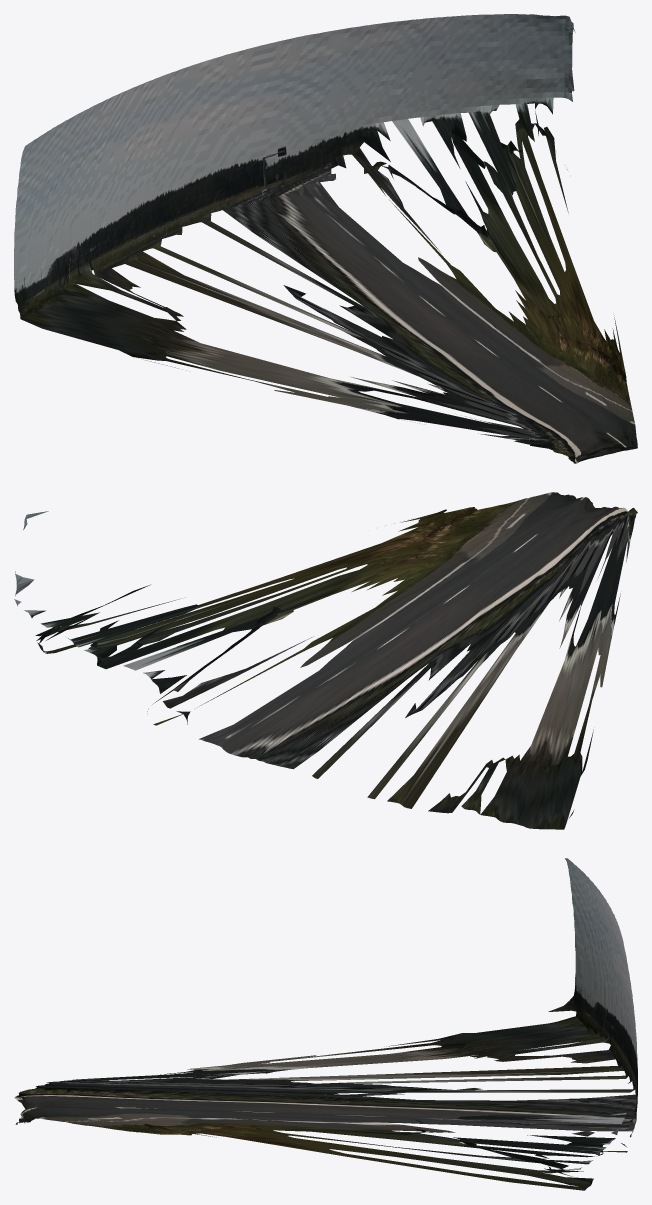
3 views of the same model, one above another, from view 1: azimuth 30°, elevation 25°; view 2: azimuth 150°, elevation 25°; view 3: azimuth 270°, elevation 25° (orthographic). The views are drawn at different scales.
Parts seen in each view (by area): view 1: defaultobject; view 2: defaultobject; view 3: defaultobject.
Part boxes in pixels (x1,y1,x2,y2): defaultobject: (14, 14, 637, 463); defaultobject: (14, 492, 637, 829); defaultobject: (14, 858, 637, 1190).
Size of the model in its own units: 41.03 by 13.43 by 44.64.
1 material, 1 textured.
